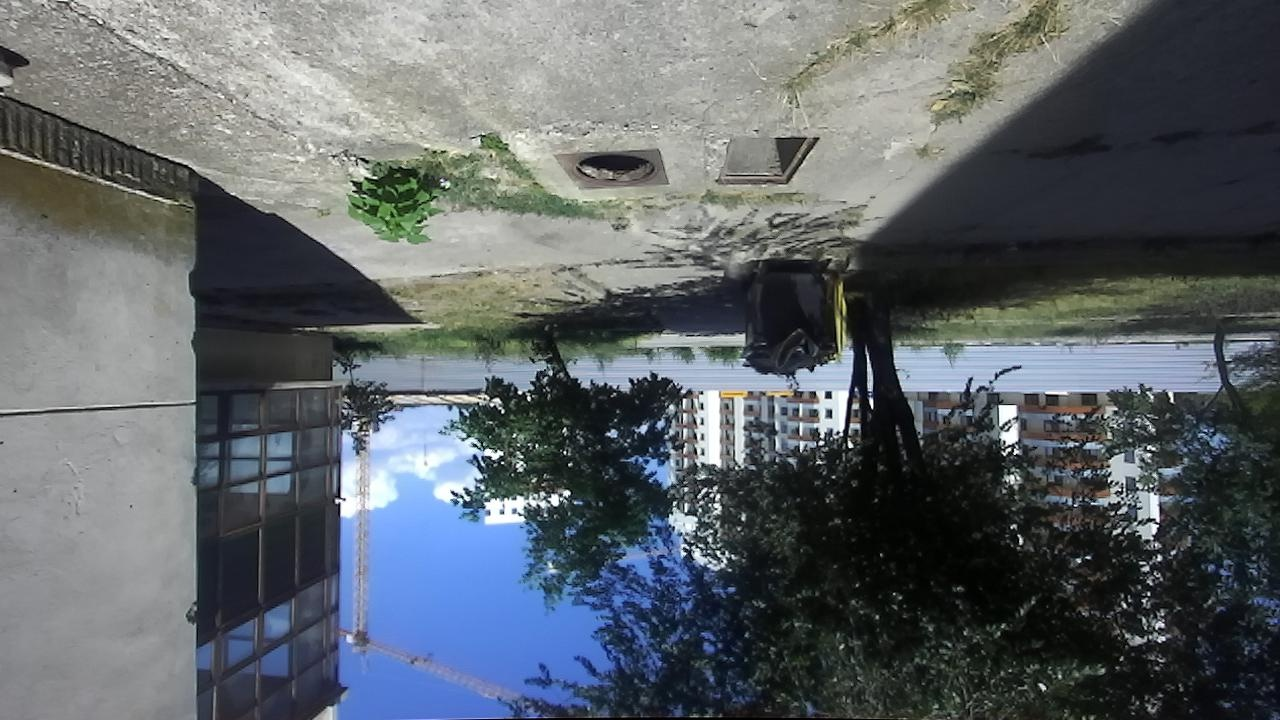drain: (709, 131, 824, 192), (568, 147, 660, 186)
